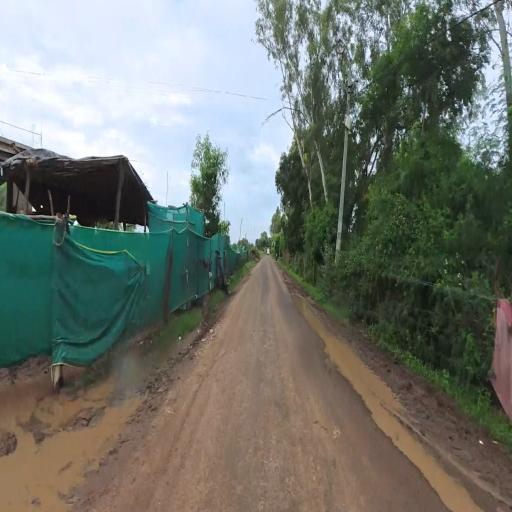edge_damage: (108, 361, 182, 460)
